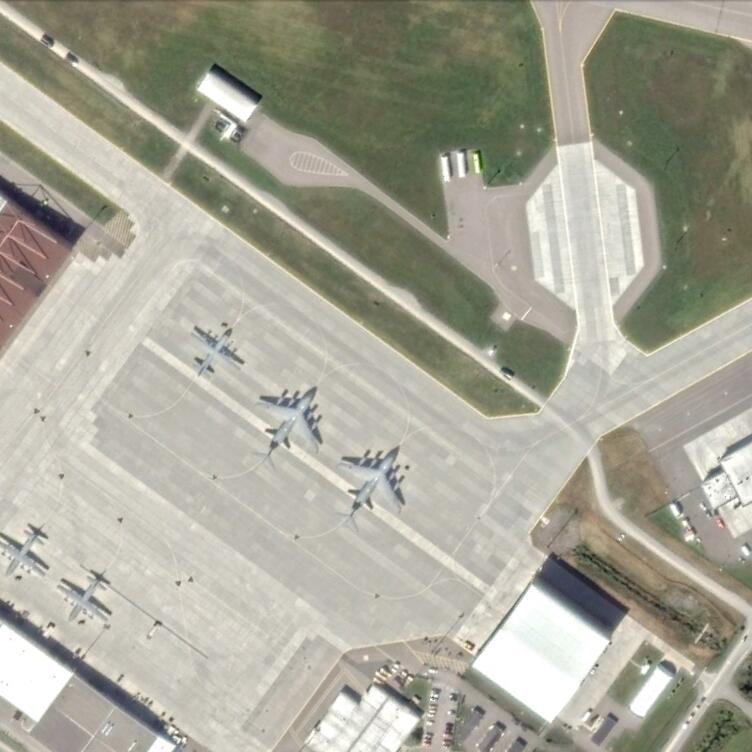A2: (182, 315, 249, 381), (55, 567, 119, 628), (1, 522, 53, 583)
A3: (332, 444, 408, 534), (252, 383, 325, 469)
